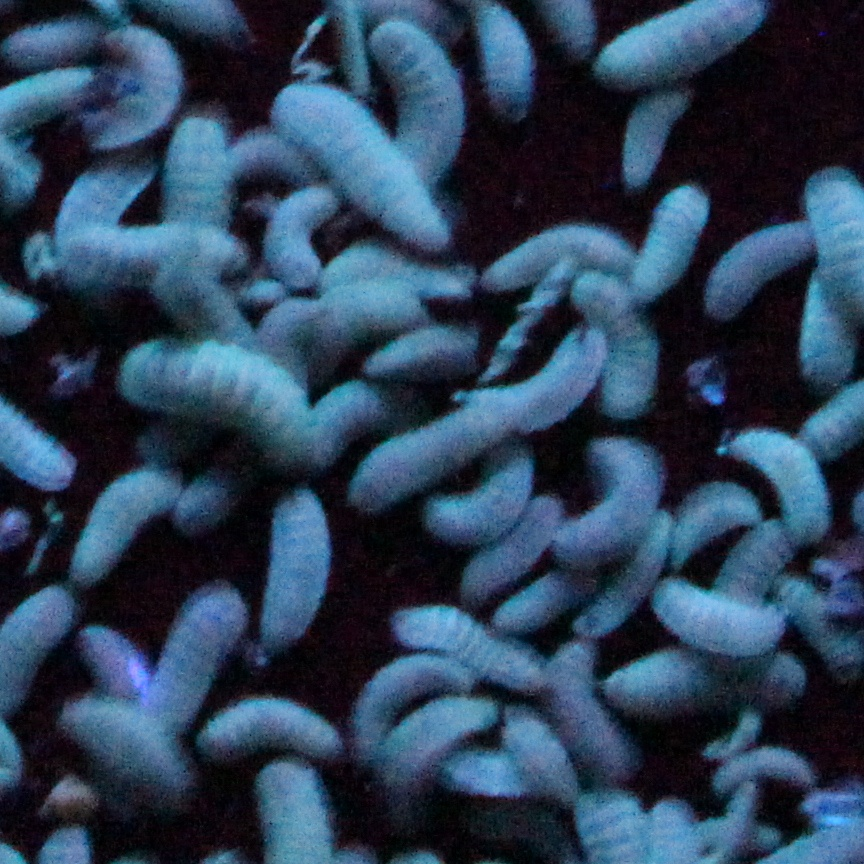larve: (362, 32, 466, 186), (140, 342, 302, 438), (708, 199, 810, 325), (80, 32, 183, 153), (80, 698, 185, 805), (156, 588, 256, 696), (617, 655, 831, 703), (648, 582, 797, 650), (270, 482, 325, 656), (87, 455, 163, 578), (347, 420, 521, 471), (163, 102, 231, 229), (253, 760, 338, 861), (427, 469, 537, 545), (574, 441, 644, 556), (629, 185, 707, 285), (201, 704, 338, 755), (150, 264, 251, 332), (486, 223, 628, 270), (74, 228, 254, 264), (461, 372, 601, 413), (601, 303, 654, 410), (312, 104, 386, 180), (611, 96, 685, 170), (178, 445, 232, 544), (574, 795, 650, 860), (554, 661, 606, 754), (774, 430, 817, 540), (367, 336, 482, 376), (397, 705, 474, 763), (317, 285, 425, 326), (680, 476, 731, 561), (394, 622, 530, 653), (505, 580, 597, 620), (264, 205, 320, 270), (92, 613, 138, 692), (652, 800, 705, 860), (796, 322, 848, 381), (508, 716, 555, 781), (360, 670, 401, 740), (714, 755, 811, 781), (738, 536, 777, 576)
